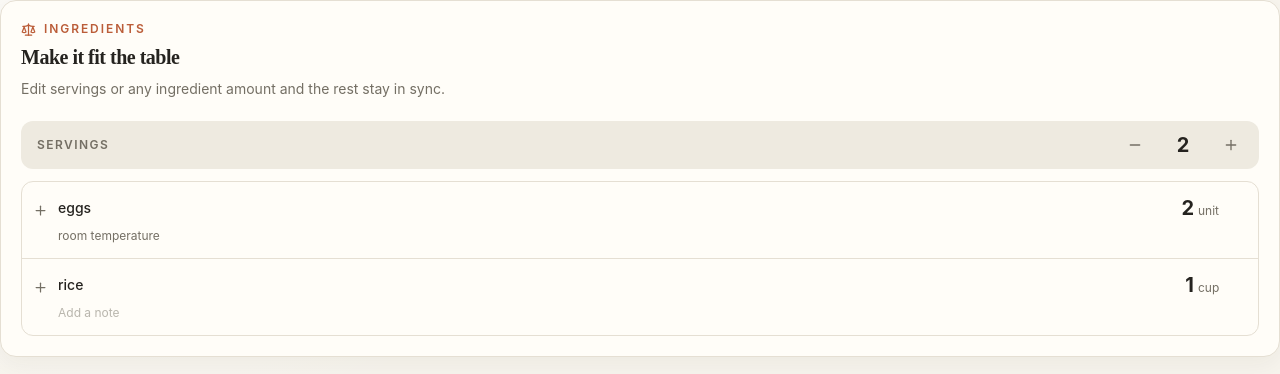
IngredientEditor › scales every in-place amount when portions change
What coordinates should you click on to do the following:
click the button named "Increase servings"
I would click on:
 (1231, 145)
Its box is [1211, 125, 1251, 165].
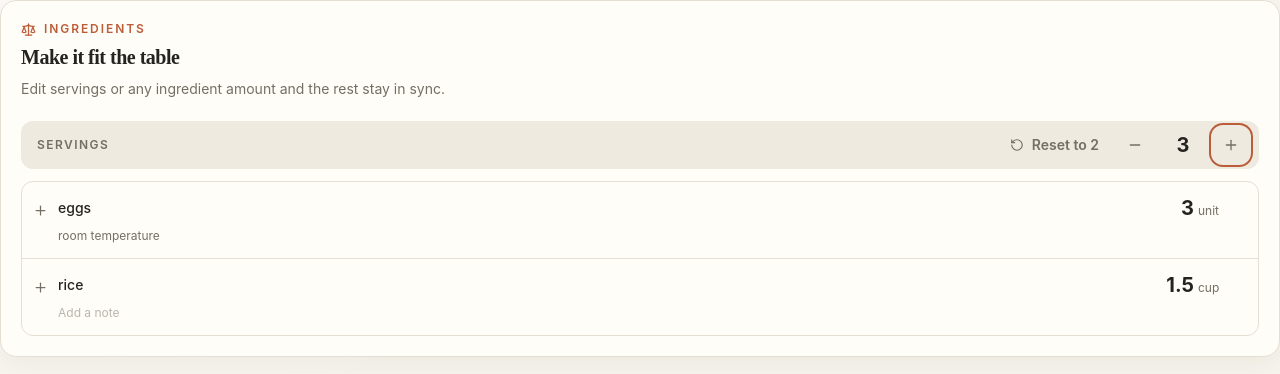
Now the number field named "Servings" holds "3", box [1155, 127, 1211, 163]
Now the number field named "Amount for eggs" holds "3", box [867, 194, 1194, 222]
Now the number field named "Amount for rice" holds "1.5", box [867, 270, 1194, 298]
What coordinates should you click on to do the following:
click the button with aria-label "Reset servings to 2"
I would click on:
 (1054, 145)
Its box is [998, 127, 1111, 163].
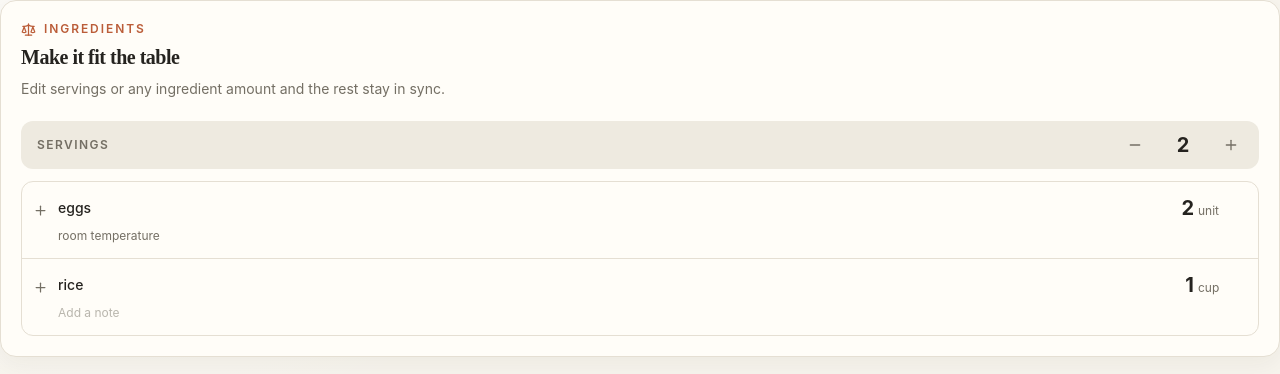
Now the number field named "Servings" holds "2", box [1155, 127, 1211, 163]
Now the number field named "Amount for eggs" holds "2", box [867, 194, 1194, 222]
